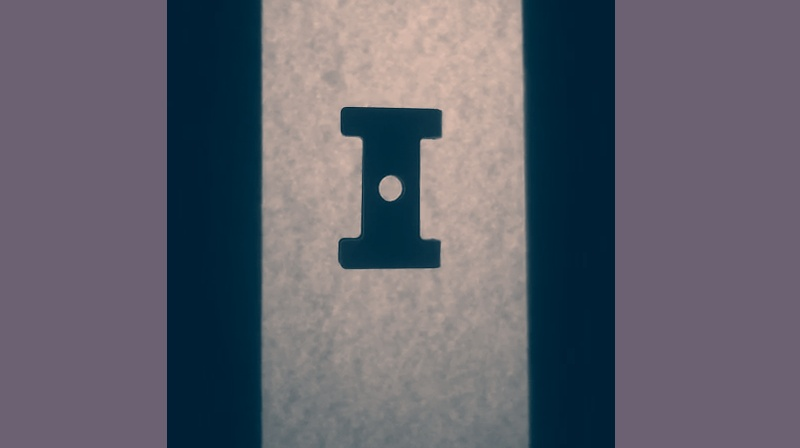O002: (334, 100, 443, 273)
